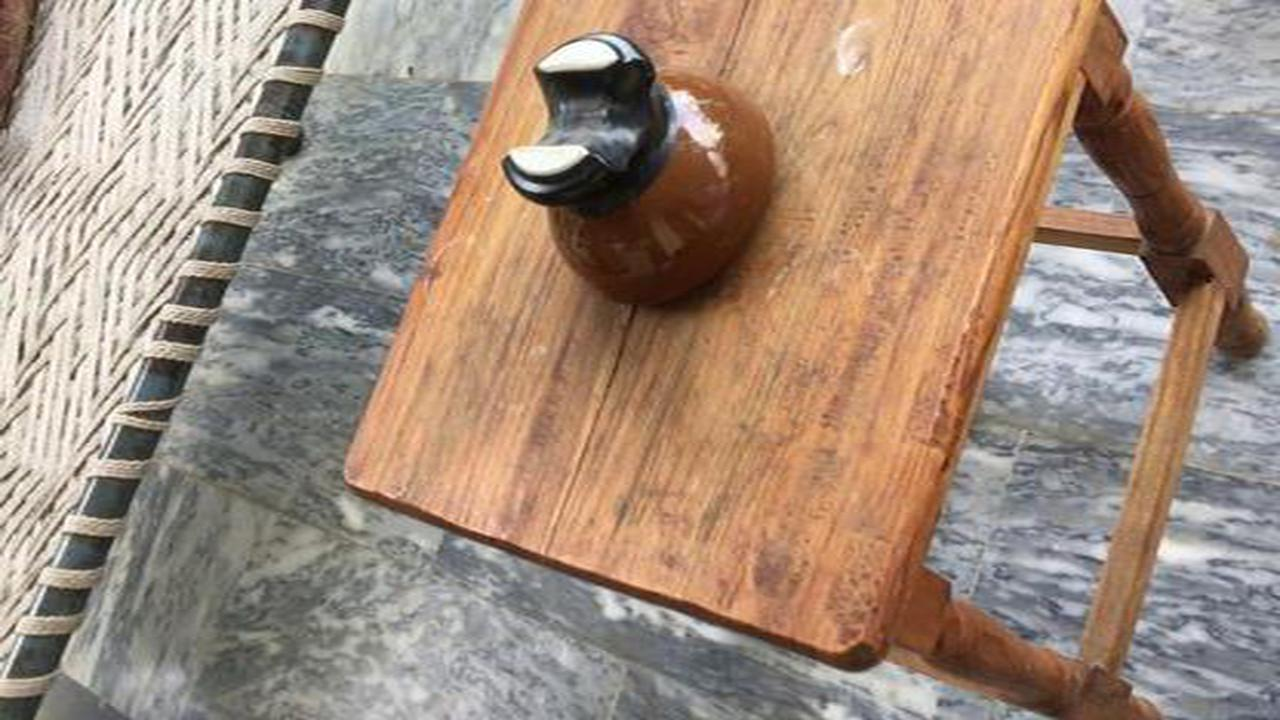insulator_pin: (484, 23, 788, 322)
